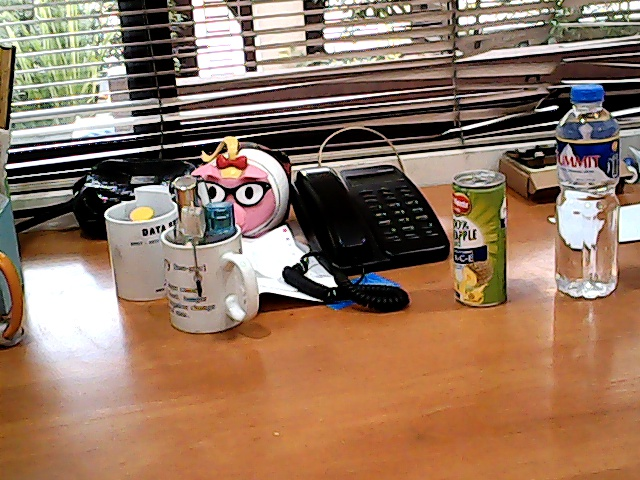Pine Juice: (443, 163, 520, 322)
Summit Water: (543, 71, 628, 313)
